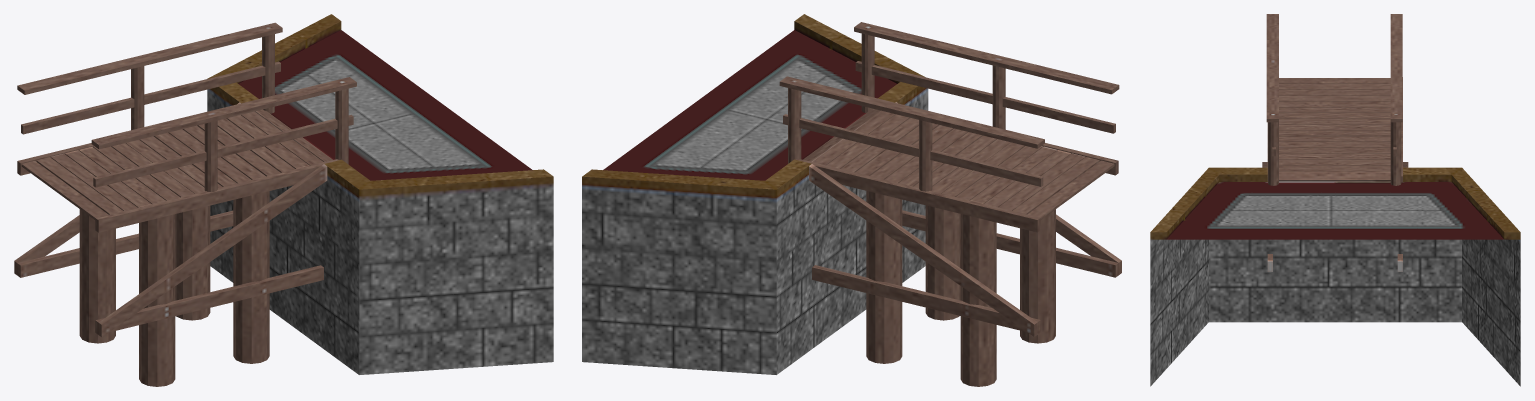
The model's file is Warf_Module.obj.
The picture shows the model from 3 angles, left to right: view 1: azimuth 30°, elevation 25°; view 2: azimuth 150°, elevation 25°; view 3: azimuth 270°, elevation 25°; orthographic projection. The views are drawn at different scales.
Visible parts, largest first — view 1: WarfWay; view 2: WarfWay; view 3: WarfWay.
Part boxes in pixels (x1,y1,x2,y2): WarfWay: [14, 14, 553, 386]; WarfWay: [582, 14, 1121, 386]; WarfWay: [1150, 14, 1520, 386].
Bounding box in the file's own units: 197 × 127 × 197.
Materials: 1 (1 with a texture image).
